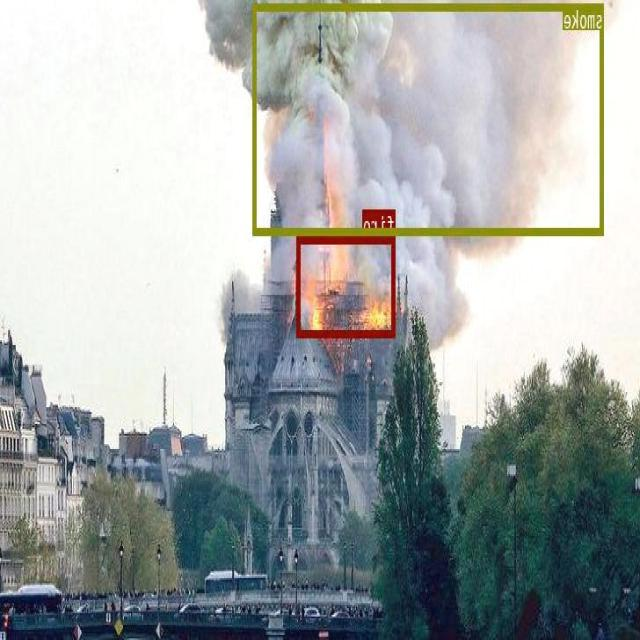fire: (298, 235, 396, 336)
smoke: (254, 2, 605, 233)
